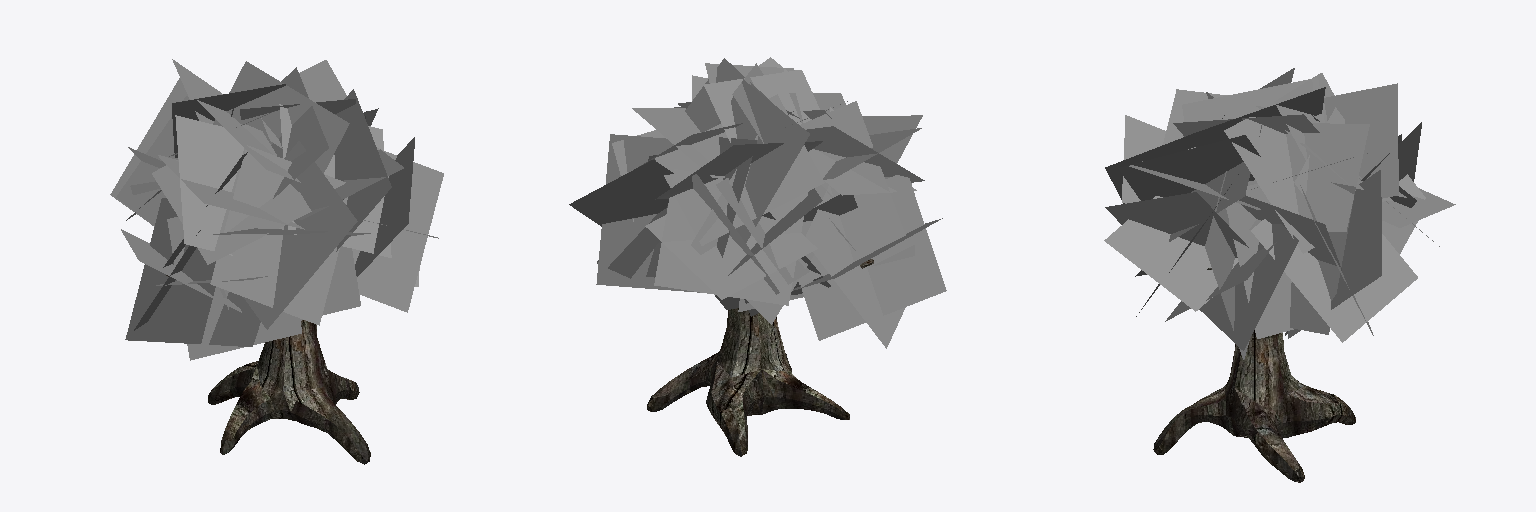
The picture shows the model from 3 angles: view 1: azimuth 30°, elevation 25°; view 2: azimuth 150°, elevation 25°; view 3: azimuth 270°, elevation 25°; orthographic projection.
Visible parts, largest first — view 1: selfmodeledtree2, selfmodeledtree1; view 2: selfmodeledtree2, selfmodeledtree1; view 3: selfmodeledtree2, selfmodeledtree1.
Boxes of the visible parts, x1=… form: selfmodeledtree2: x1=110, y1=59, x2=443, y2=360; selfmodeledtree1: x1=166, y1=275, x2=370, y2=464; selfmodeledtree2: x1=569, y1=57, x2=946, y2=348; selfmodeledtree1: x1=647, y1=259, x2=873, y2=456; selfmodeledtree2: x1=1104, y1=68, x2=1455, y2=359; selfmodeledtree1: x1=1153, y1=268, x2=1355, y2=482.
Size of the model in its own units: 2.48 by 2.75 by 2.5.
3 materials, 1 textured.